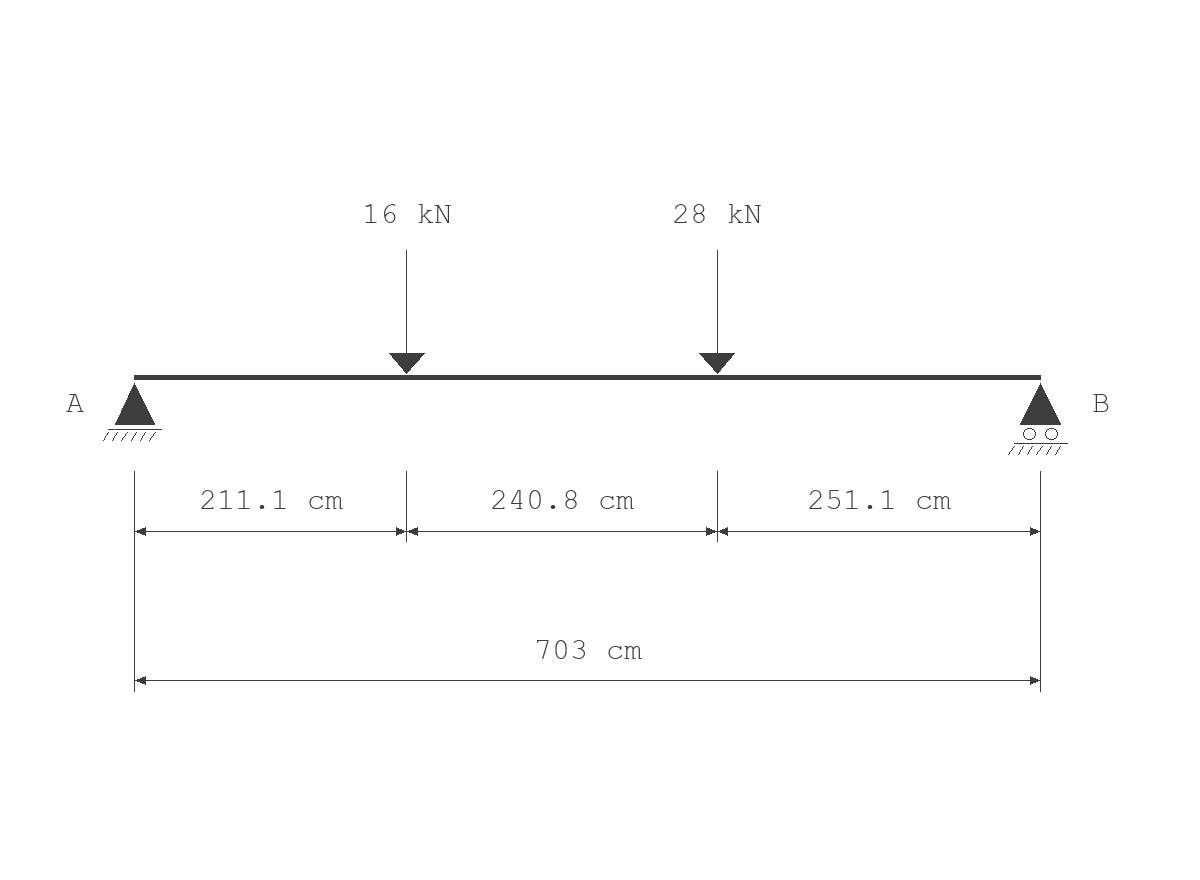pin_support: (103, 383, 162, 441)
point_load: (389, 250, 425, 374), (699, 250, 735, 374)
roller_support: (1008, 383, 1068, 455)
